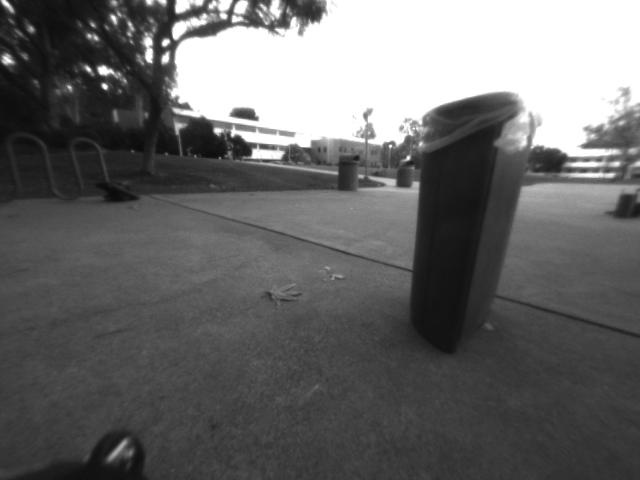trashcan_open: (402, 91, 542, 358)
